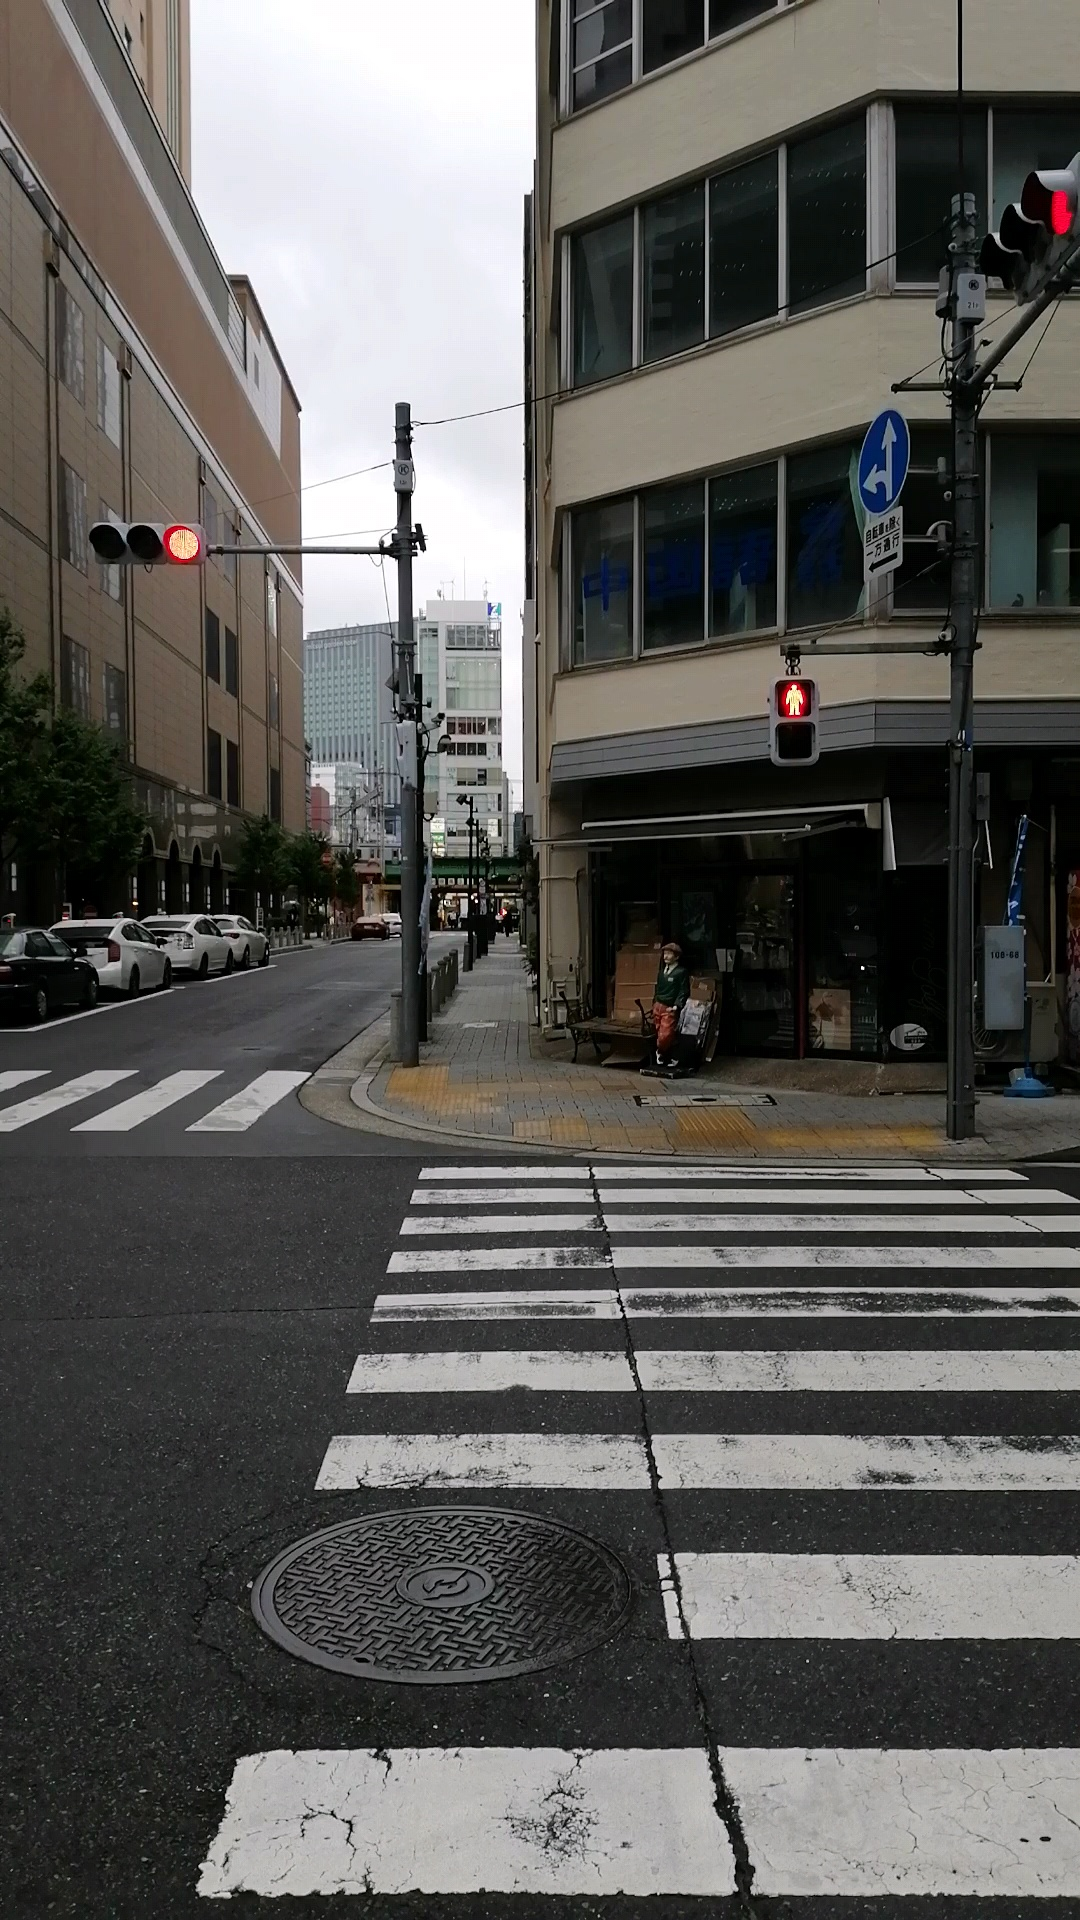red: (771, 679, 820, 765)
